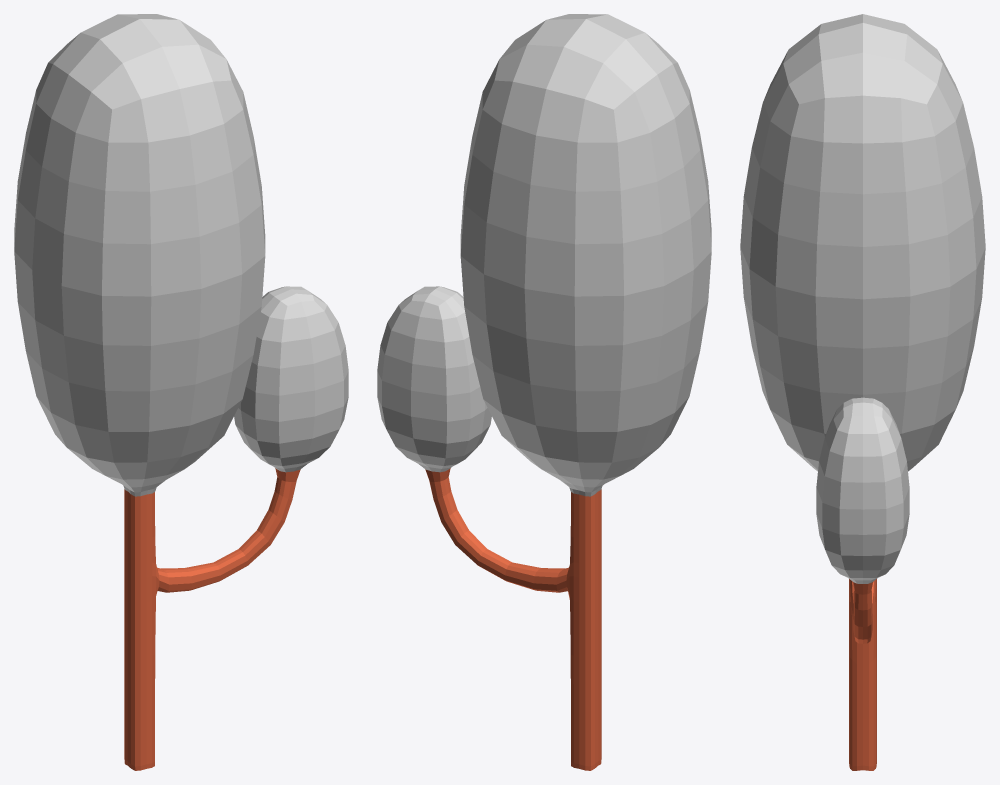
File: tree.fbx
3 views of the same model, side by side, from view 1: azimuth 30°, elevation 25°; view 2: azimuth 150°, elevation 25°; view 3: azimuth 270°, elevation 25° (orthographic).
Visible parts, largest first — view 1: Cube; view 2: Cube; view 3: Cube.
Boxes of the visible parts, left/top/right/bottom form: Cube: left=14, top=14, right=348, bottom=770; Cube: left=377, top=14, right=711, bottom=770; Cube: left=740, top=14, right=985, bottom=770.
Size of the model in its own units: 418 by 972 by 291.
